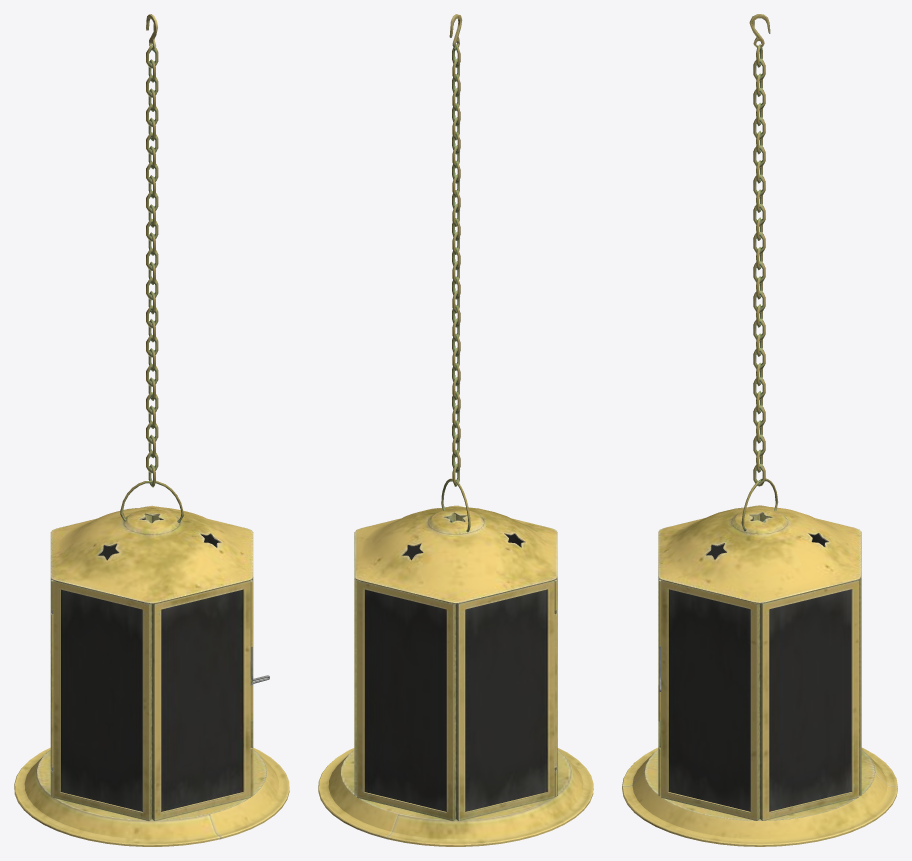
The model's file is brass-lantern.glb.
3 views of the same model, side by side, from view 1: azimuth 30°, elevation 25°; view 2: azimuth 150°, elevation 25°; view 3: azimuth 270°, elevation 25° (orthographic).
Bounding box in the file's own units: 0.123 × 0.3807 × 0.123.
Materials: 3 (3 with a texture image).
